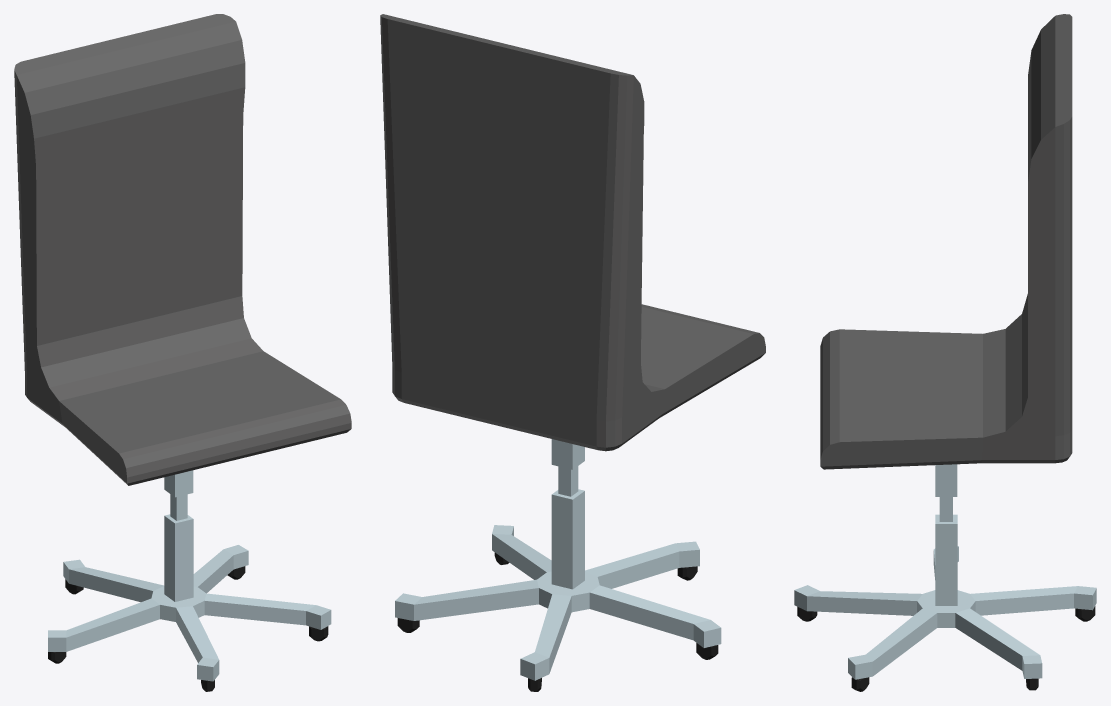
The model's file is DeshChair.fbx.
3 views of the same model, side by side, from view 1: azimuth 30°, elevation 25°; view 2: azimuth 150°, elevation 25°; view 3: azimuth 270°, elevation 25° (orthographic). The views are drawn at different scales.
Parts seen in each view (by area): view 1: DeshChair; view 2: DeshChair; view 3: DeshChair.
Boxes of the visible parts, x1=… form: DeshChair: x1=14, y1=14, x2=351, y2=691; DeshChair: x1=380, y1=14, x2=765, y2=691; DeshChair: x1=794, y1=14, x2=1096, y2=691.
Bounding box in the file's own units: 55.61 × 120 × 57.23.
